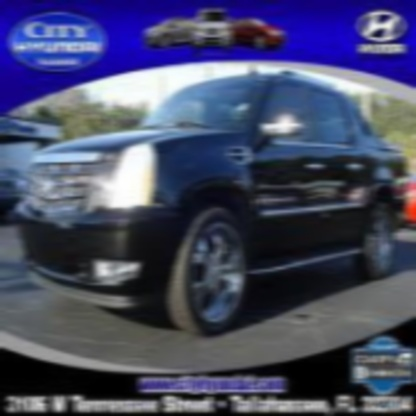Vehicle: (15, 73, 406, 337)
